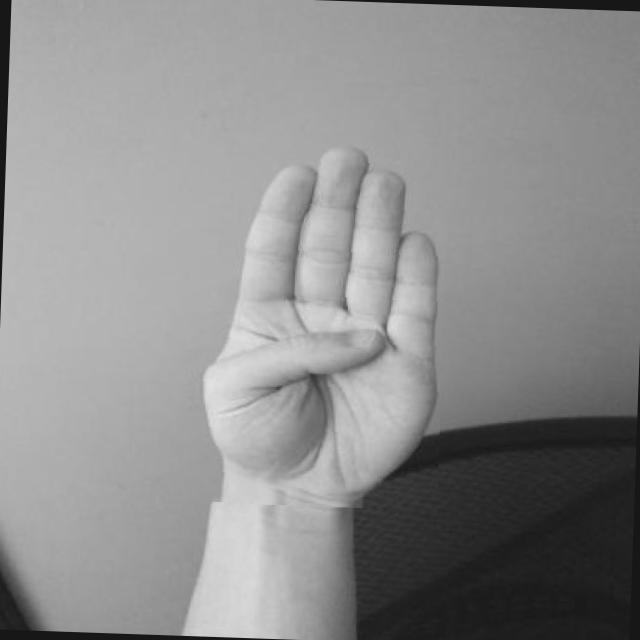B: (180, 134, 449, 512)
